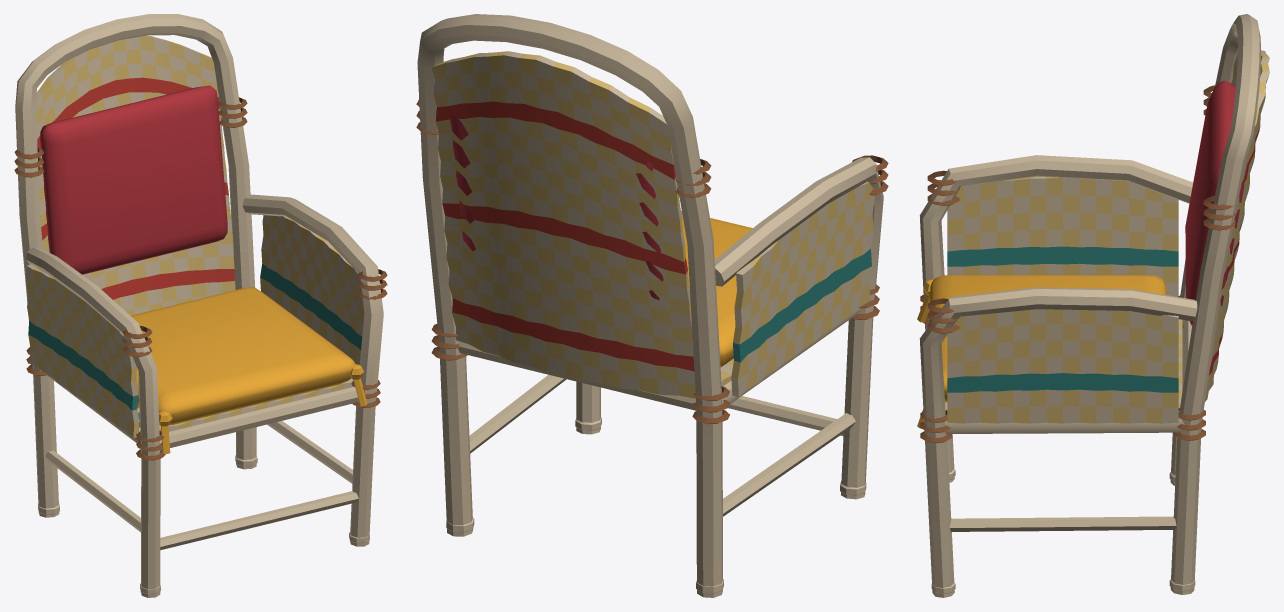
File: deco_chair_woven.fbx
The picture shows the model from 3 angles, left to right: view 1: azimuth 30°, elevation 25°; view 2: azimuth 150°, elevation 25°; view 3: azimuth 270°, elevation 25°; orthographic projection. The views are drawn at different scales.
Parts seen in each view (by area): view 1: Chair_Woven_Cushion, Chair_Woven_Frame, Chair_Woven_Weave; view 2: Chair_Woven_Weave, Chair_Woven_Frame, Chair_Woven_Cushion; view 3: Chair_Woven_Weave, Chair_Woven_Frame, Chair_Woven_Cushion.
Boxes of the visible parts, x1=… form: Chair_Woven_Cushion: x1=40, y1=85, x2=367, y2=453; Chair_Woven_Frame: x1=14, y1=14, x2=387, y2=597; Chair_Woven_Weave: x1=26, y1=35, x2=364, y2=437; Chair_Woven_Weave: x1=431, y1=51, x2=874, y2=398; Chair_Woven_Frame: x1=416, y1=14, x2=888, y2=597; Chair_Woven_Cushion: x1=450, y1=113, x2=752, y2=366; Chair_Woven_Weave: x1=945, y1=50, x2=1269, y2=423; Chair_Woven_Frame: x1=919, y1=14, x2=1261, y2=597; Chair_Woven_Cushion: x1=917, y1=81, x2=1244, y2=428.
Bounding box in the file's own units: 90 × 148 × 94.59.
